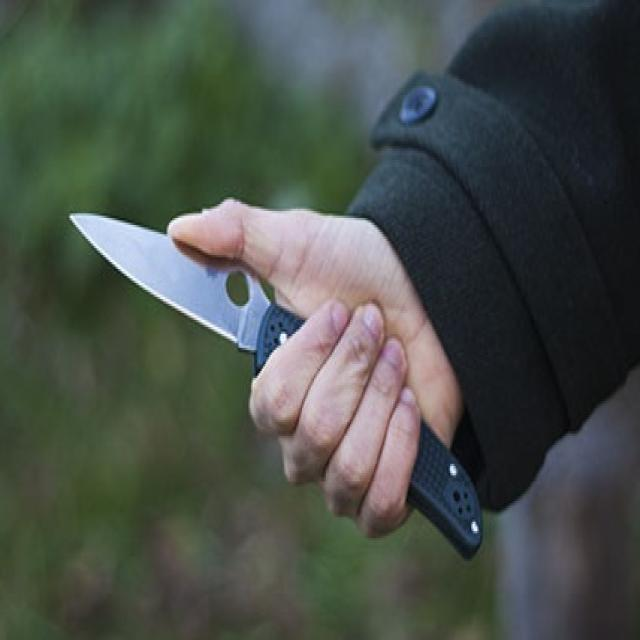knife: (68, 205, 486, 559)
